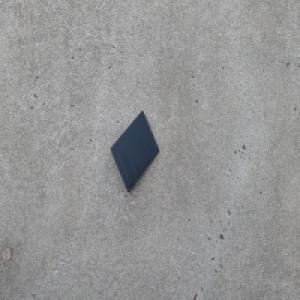PlasticPart: (110, 109, 160, 194)
